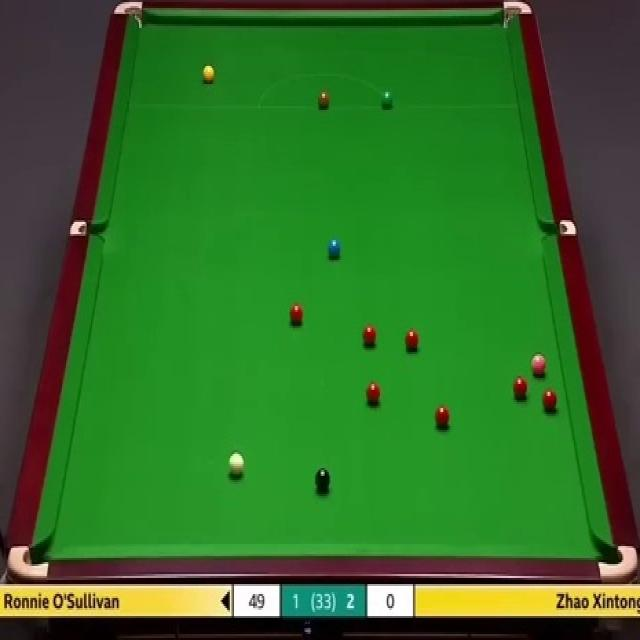blue-ball: (329, 237, 341, 260)
brown-ball: (317, 91, 331, 109)
green-ball: (380, 88, 395, 110)
pink-ball: (530, 353, 547, 375)
red-ball: (366, 380, 383, 408), (542, 388, 560, 412), (288, 305, 306, 326), (512, 375, 527, 400), (333, 410, 348, 434), (405, 328, 419, 352), (306, 393, 319, 418), (319, 407, 335, 427), (316, 426, 330, 448), (309, 378, 323, 399)
white-ball: (270, 483, 289, 508)
yellow-ball: (202, 64, 215, 86)
